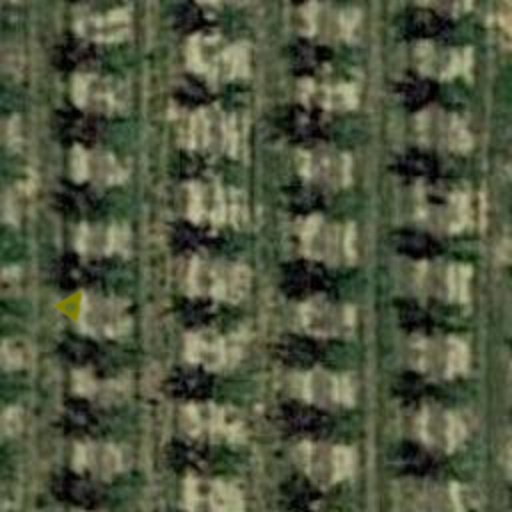triangle: (52, 280, 96, 324)
